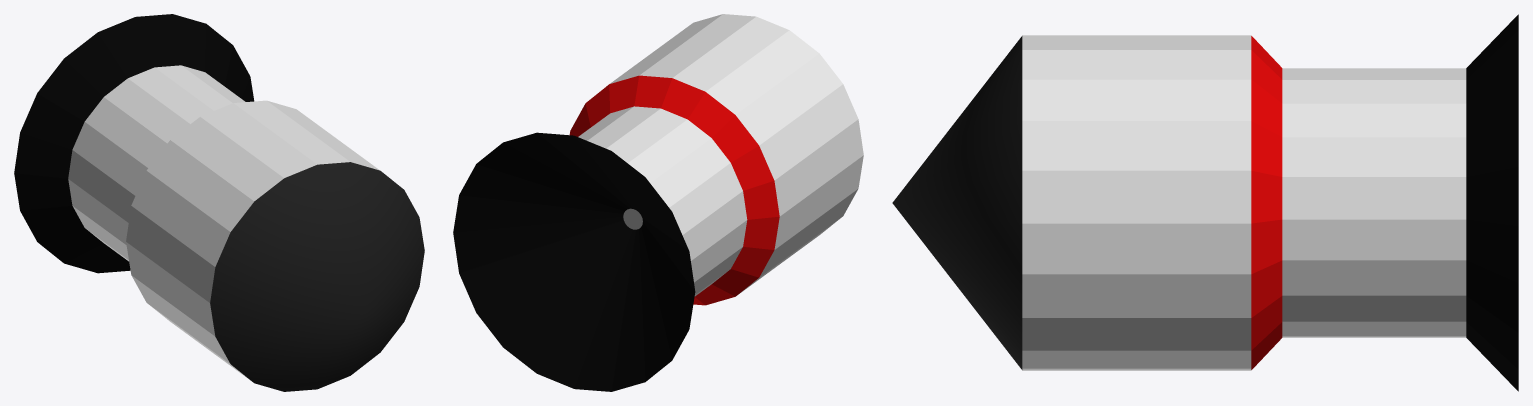
The model's file is Bullet.fbx.
3 views of the same model, side by side, from view 1: azimuth 30°, elevation 25°; view 2: azimuth 150°, elevation 25°; view 3: azimuth 270°, elevation 25° (orthographic). The views are drawn at different scales.
Visible parts, largest first — view 1: pCone2; view 2: pCone2; view 3: pCone2.
Part boxes in pixels (x1,y1,x2,y2): pCone2: [14, 14, 424, 391]; pCone2: [453, 14, 863, 391]; pCone2: [892, 14, 1518, 391].
Bounding box in the file's own units: 2.26 × 2.26 × 3.71.
